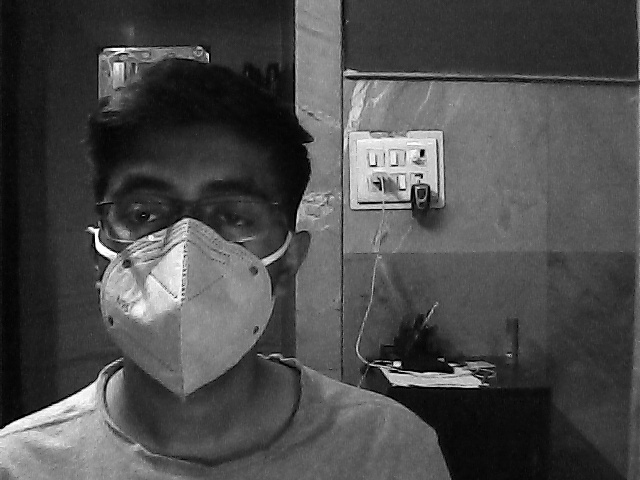mask: (97, 158, 284, 399)
